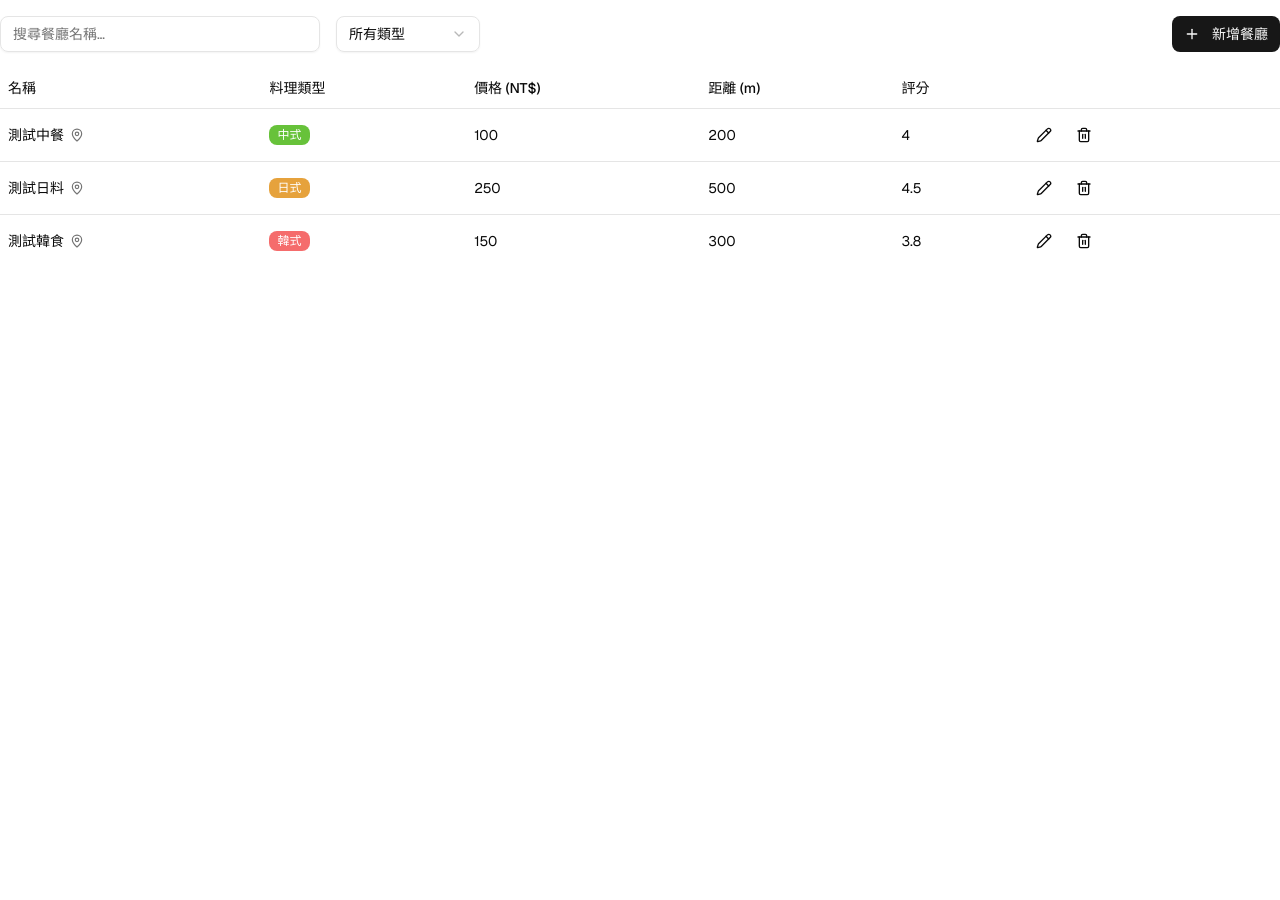
RestaurantListPanel (admin CRUD) › shows validation errors for empty form submission (distance is optional)
The image size is (1280, 900).
Click the button "新增餐廳" at (1226, 34), box [1172, 16, 1279, 52]
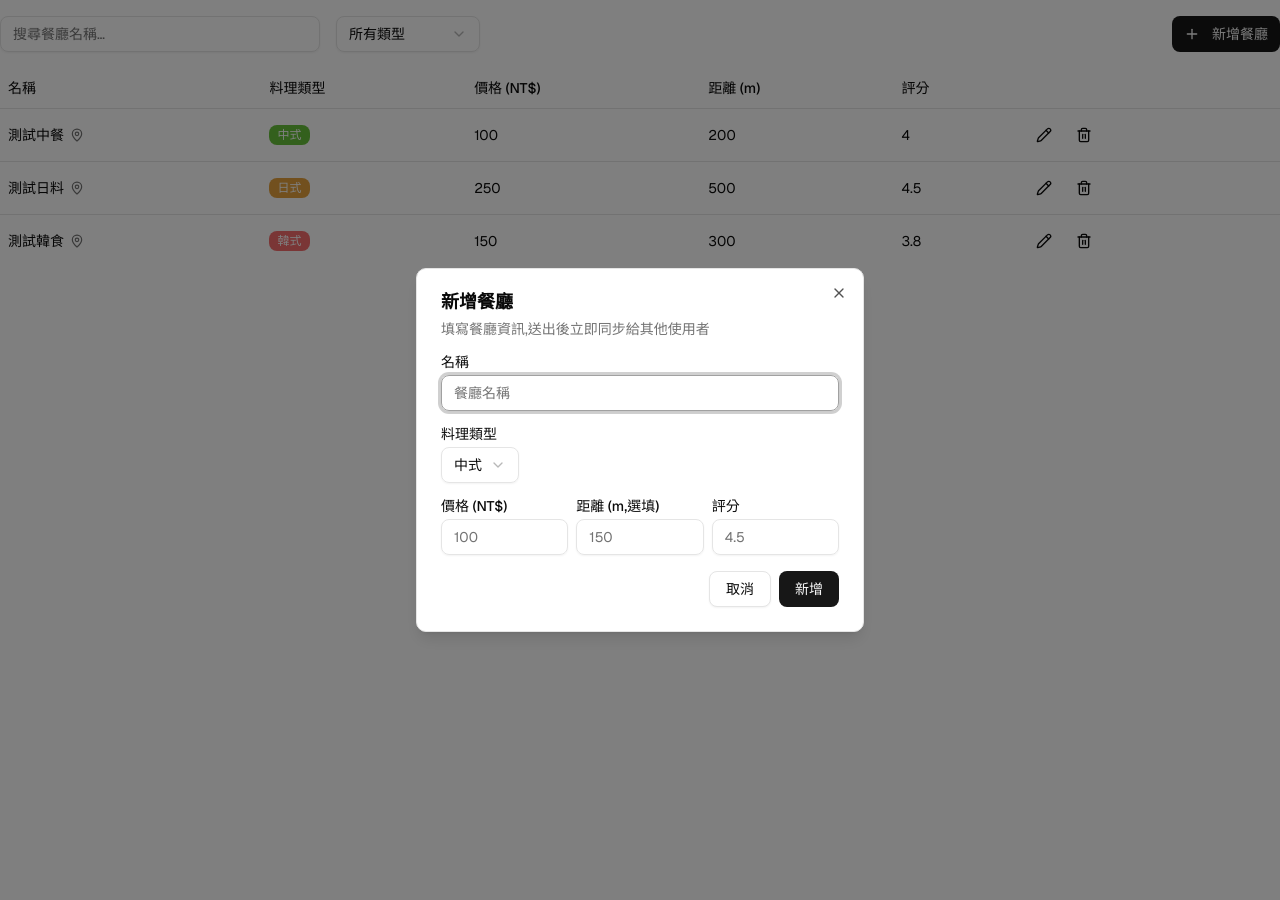
Click the button "新增" at (809, 589), box [779, 571, 839, 607]
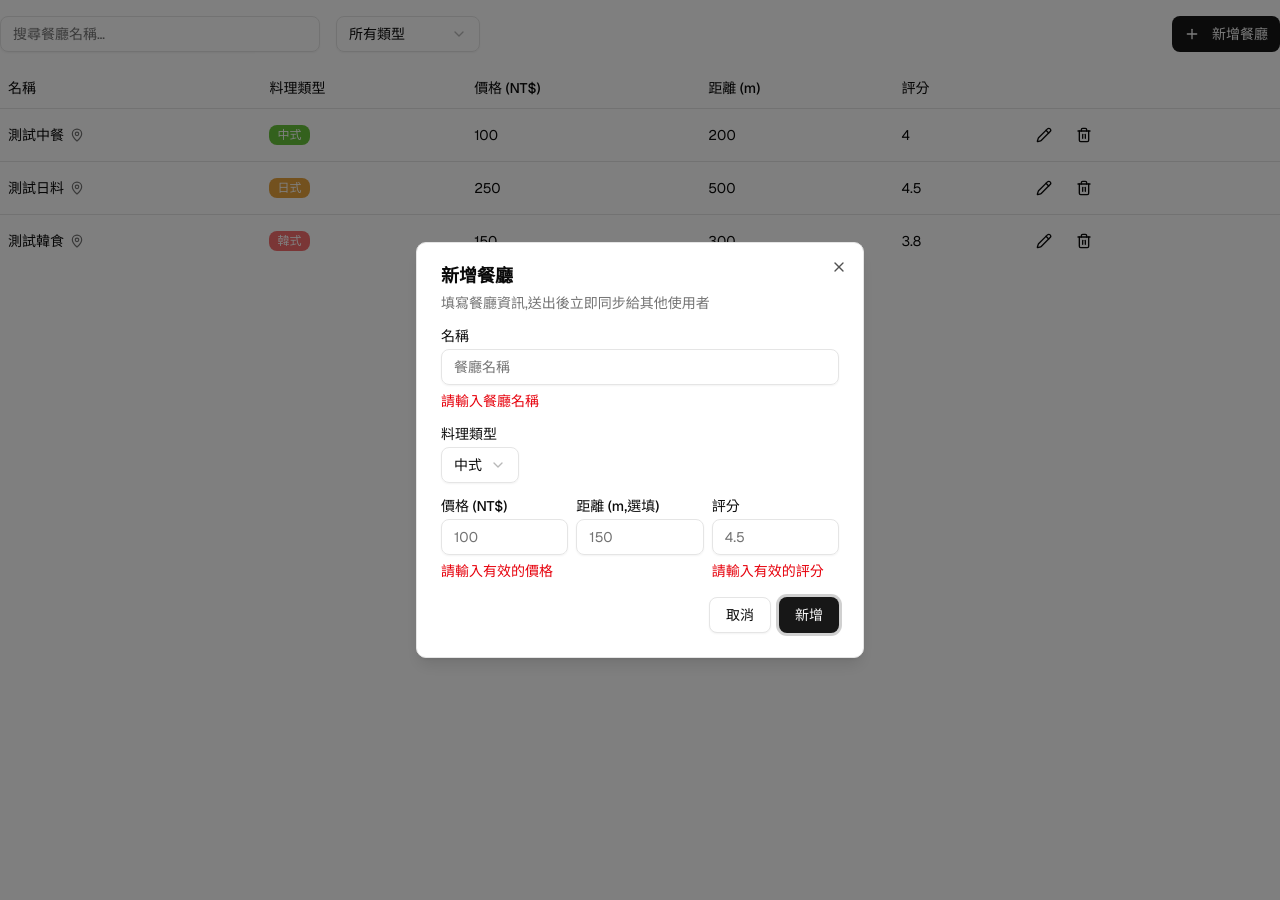
expect the text "請輸入有效的價格" is shown: met, box [441, 561, 568, 581]
expect the text "請輸入有效的評分" is shown: met, box [712, 561, 839, 581]
